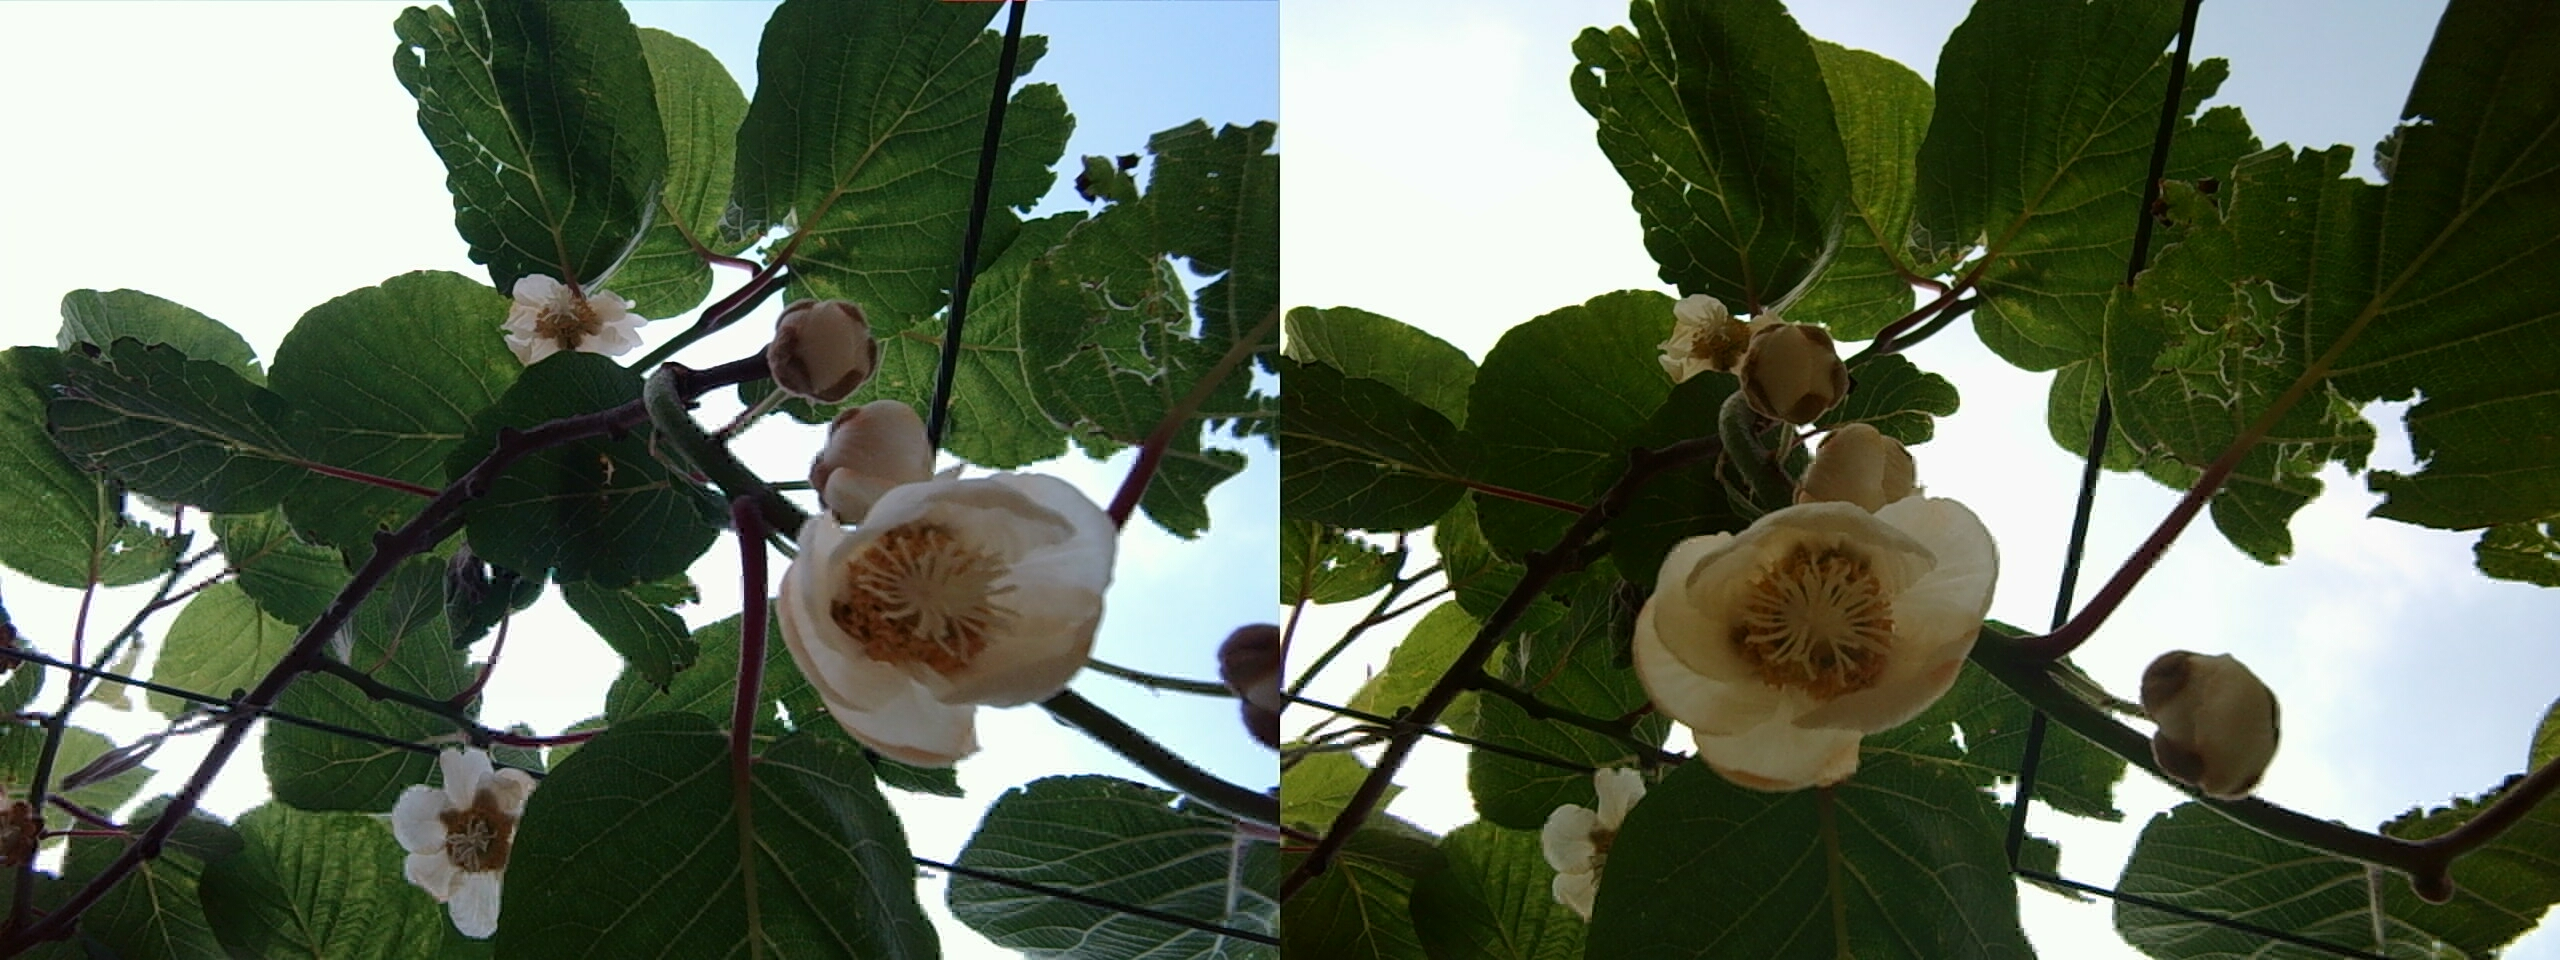flower: (1641, 483, 1977, 754), (789, 460, 1089, 736), (385, 749, 544, 927), (811, 397, 931, 518), (503, 268, 637, 361)
